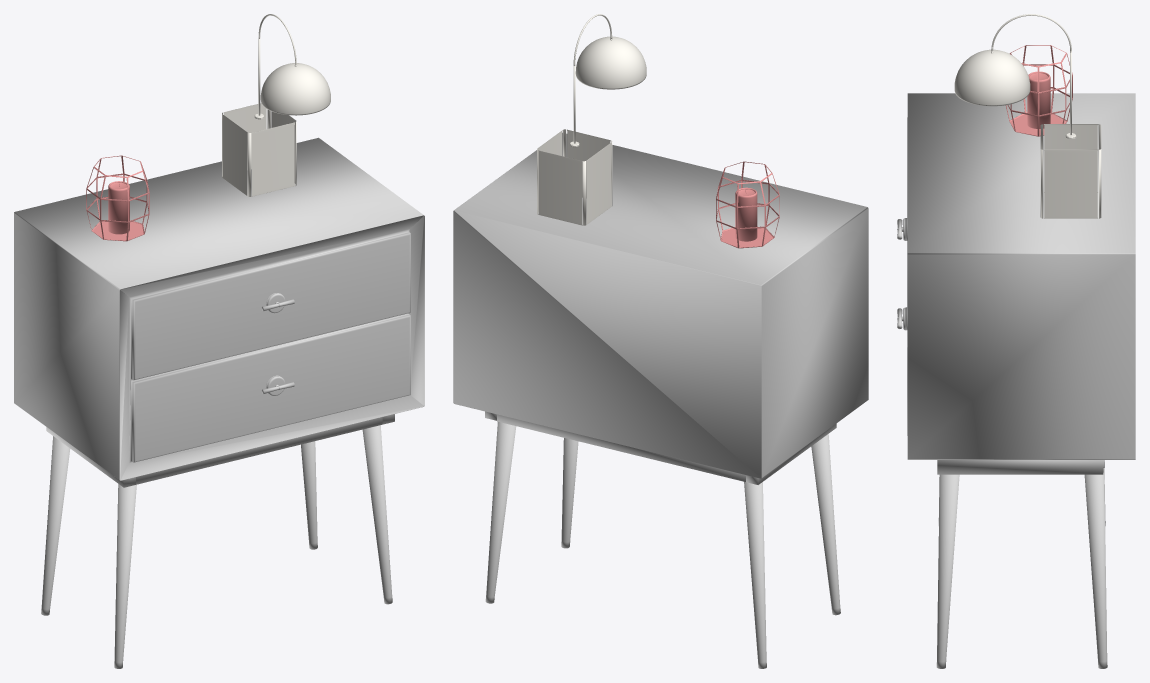
Rendered from Table.glb.
The picture shows the model from 3 angles, left to right: view 1: azimuth 30°, elevation 25°; view 2: azimuth 150°, elevation 25°; view 3: azimuth 270°, elevation 25°; orthographic projection. The views are drawn at different scales.
Visible parts, largest first — view 1: Badside_table; view 2: Badside_table; view 3: Badside_table.
Boxes of the visible parts, x1,y1,x2,y2 form: Badside_table: (14,14,424,668); Badside_table: (453,14,868,668); Badside_table: (897,14,1135,668).
Size of the model in its own units: 0.5 by 0.8957 by 0.3138.
